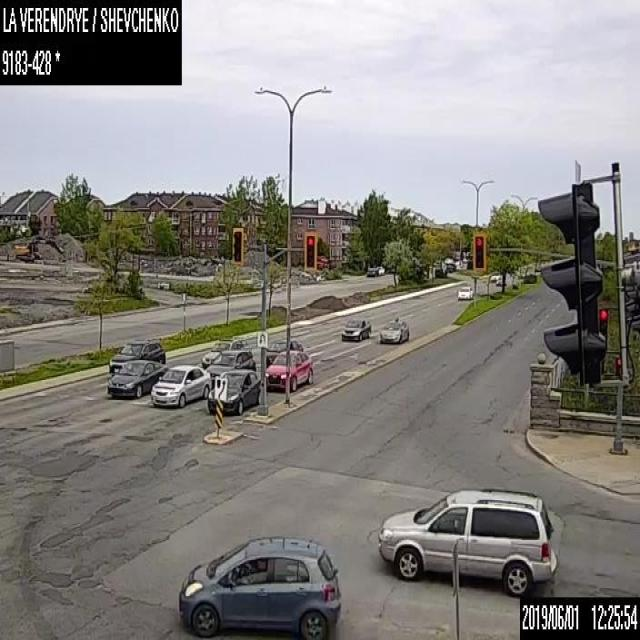vehicle: (376, 485, 558, 596), (175, 533, 342, 639), (151, 364, 211, 406), (207, 368, 261, 413), (107, 358, 167, 397), (109, 338, 165, 375), (265, 349, 312, 390), (205, 348, 255, 384), (201, 338, 243, 367), (266, 338, 302, 364), (379, 317, 408, 343), (340, 316, 370, 341), (457, 284, 473, 298), (366, 266, 378, 276), (490, 272, 500, 281), (376, 265, 385, 275), (495, 276, 501, 286)
